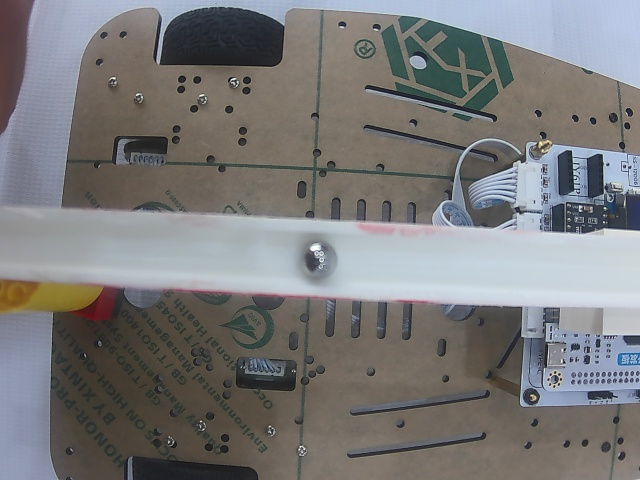steelball: (297, 240, 339, 280)
